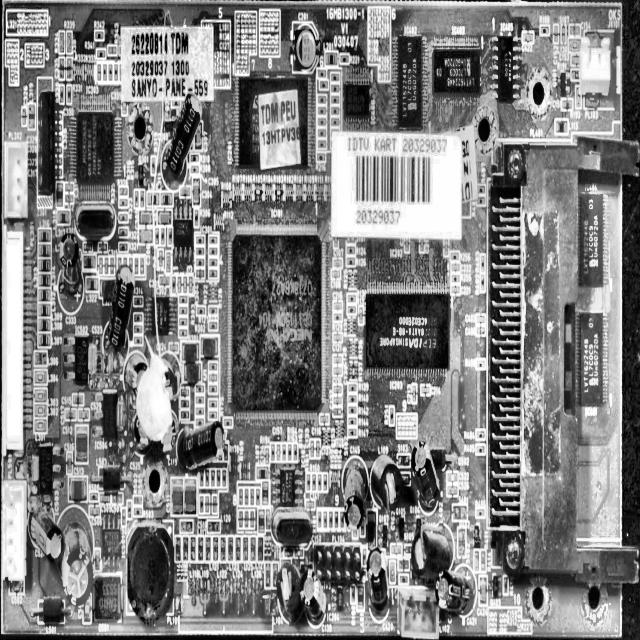PCB: (2, 0, 639, 640)
